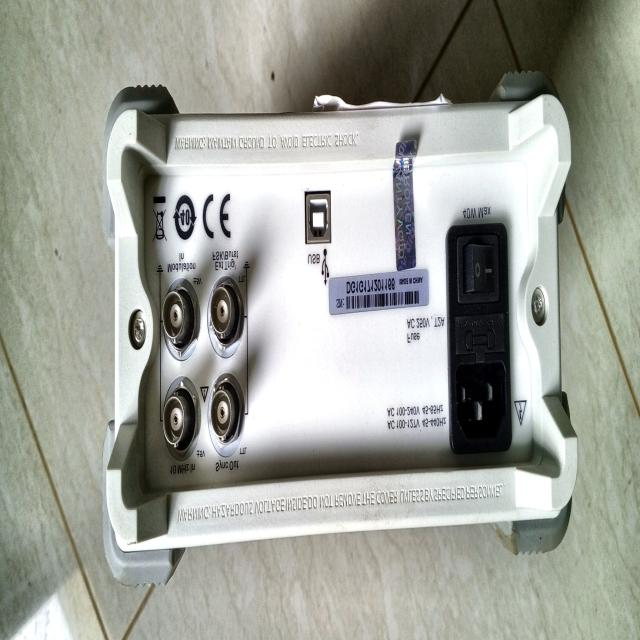Function Arbitrary Wave Form Generator 25Mhz: (99, 74, 595, 598)
